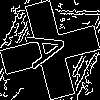A: (25, 25, 78, 70)
